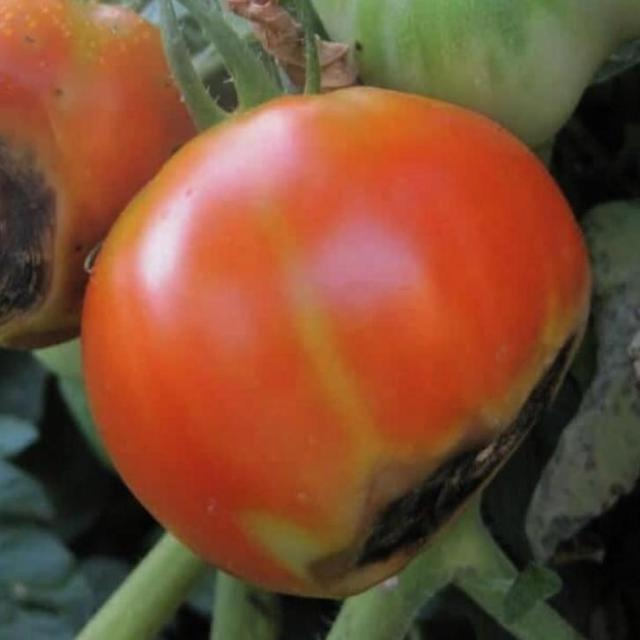Blossom End Rot Fruit: (20, 144, 297, 302)
